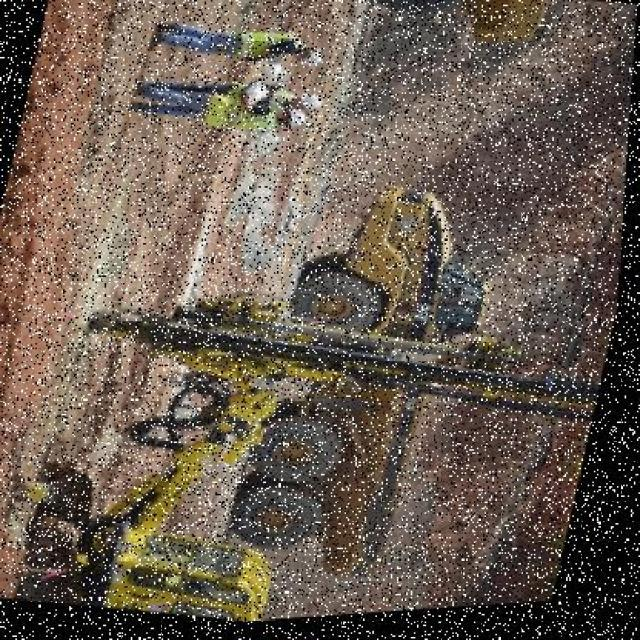helmet: (288, 42, 330, 75), (286, 92, 328, 118), (274, 109, 309, 134)
vest: (220, 25, 306, 77), (194, 92, 282, 140)
